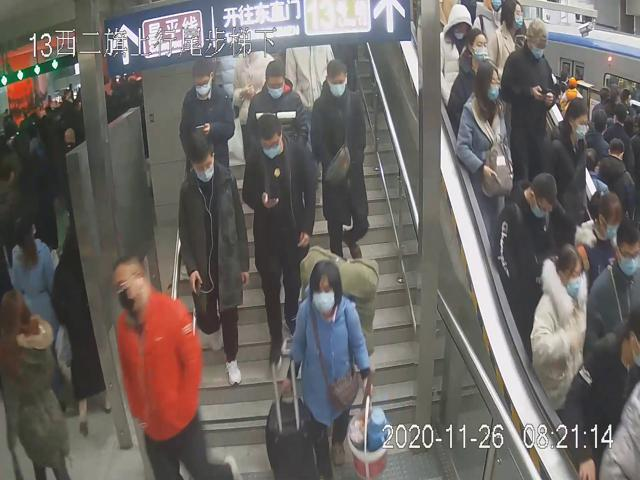person: (111, 251, 235, 480), (176, 123, 251, 387), (240, 114, 317, 370), (280, 260, 374, 468), (311, 54, 369, 262), (455, 59, 514, 239), (495, 172, 558, 328), (503, 16, 553, 177), (541, 92, 589, 240), (180, 57, 234, 180), (243, 58, 308, 160)
